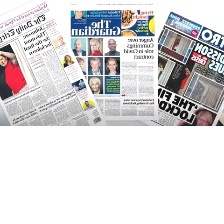news_paper: (0, 0, 108, 125), (132, 3, 224, 127), (65, 2, 160, 122)
